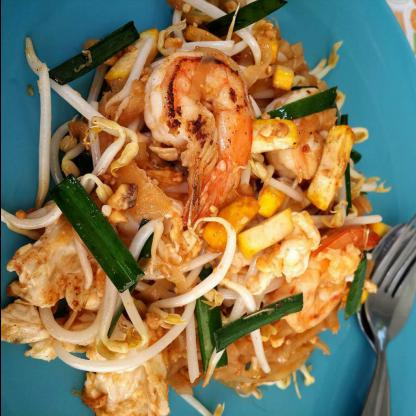Pad Thai: (13, 6, 388, 386)
